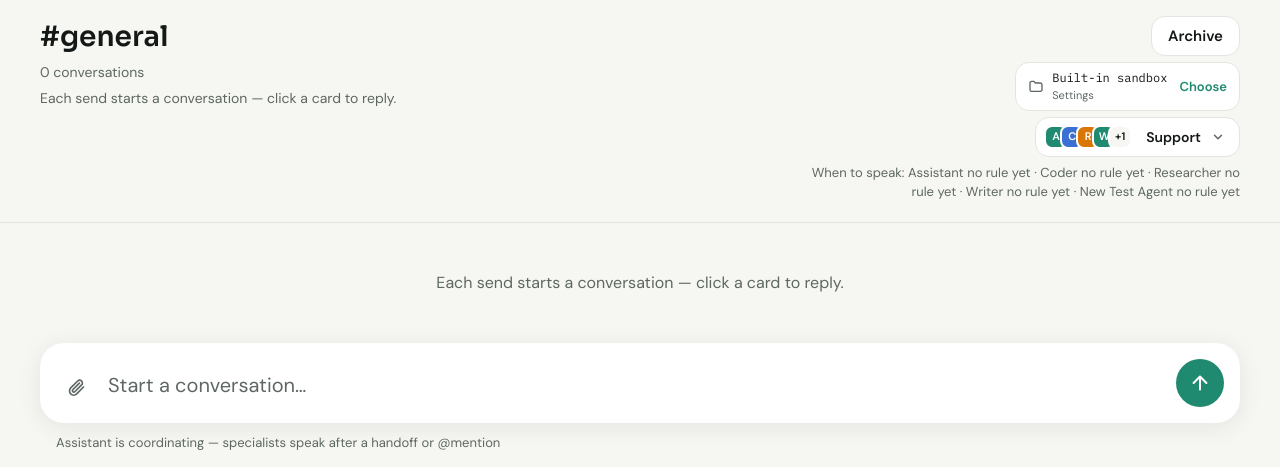
Test case: channels/[id]/+page.svelte › shows a +N disc and lists every member in the team menu when the team has more than four (#423)
The width and height of the screenshot is (1280, 467).
Expected: the text "Assistant is coordinating" is shown, [56, 434, 500, 450]
Expected: the button named "Mention Assistant" is shown, [1044, 124, 1068, 148]
Click the button "Support": (1186, 136) [1132, 116, 1239, 156]
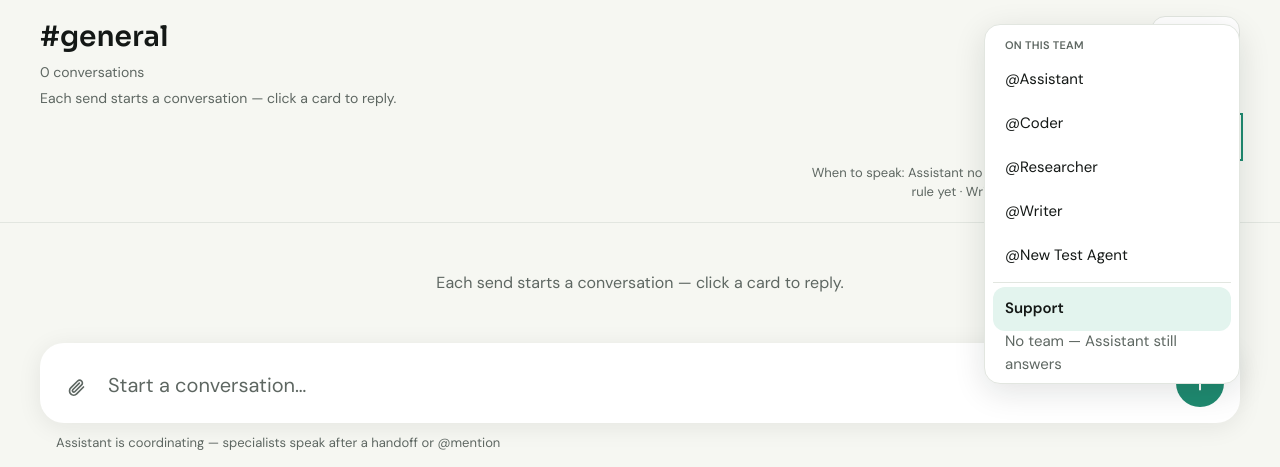
Now the menu item "@Assistant" is shown, box [993, 58, 1231, 102]
Now the menu item "@New Test Agent" is shown, box [993, 234, 1231, 278]
